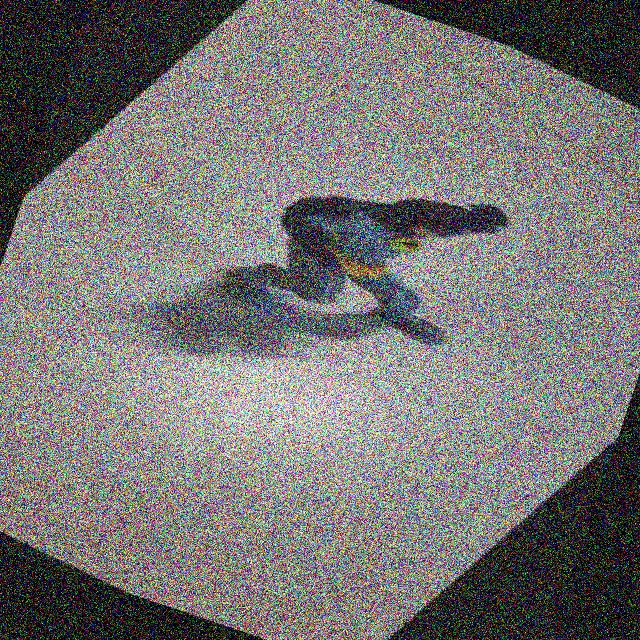Batman: (167, 83, 585, 420)
